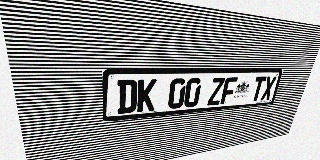0: (167, 78, 187, 109), (183, 78, 202, 108)
D: (117, 79, 138, 114)
F: (220, 77, 238, 104)
K: (137, 79, 157, 112)
T: (250, 76, 267, 102)
X: (260, 76, 277, 101)
Z: (207, 77, 225, 106)
